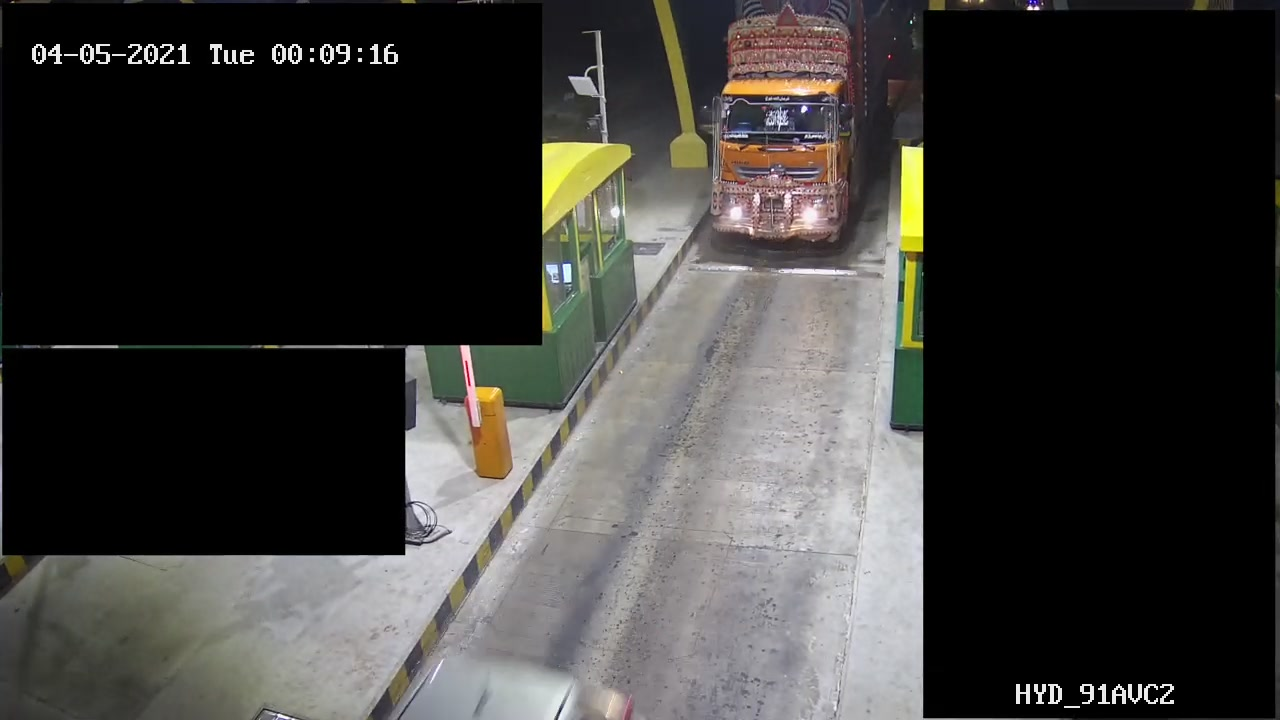F6: (708, 1, 885, 256)
